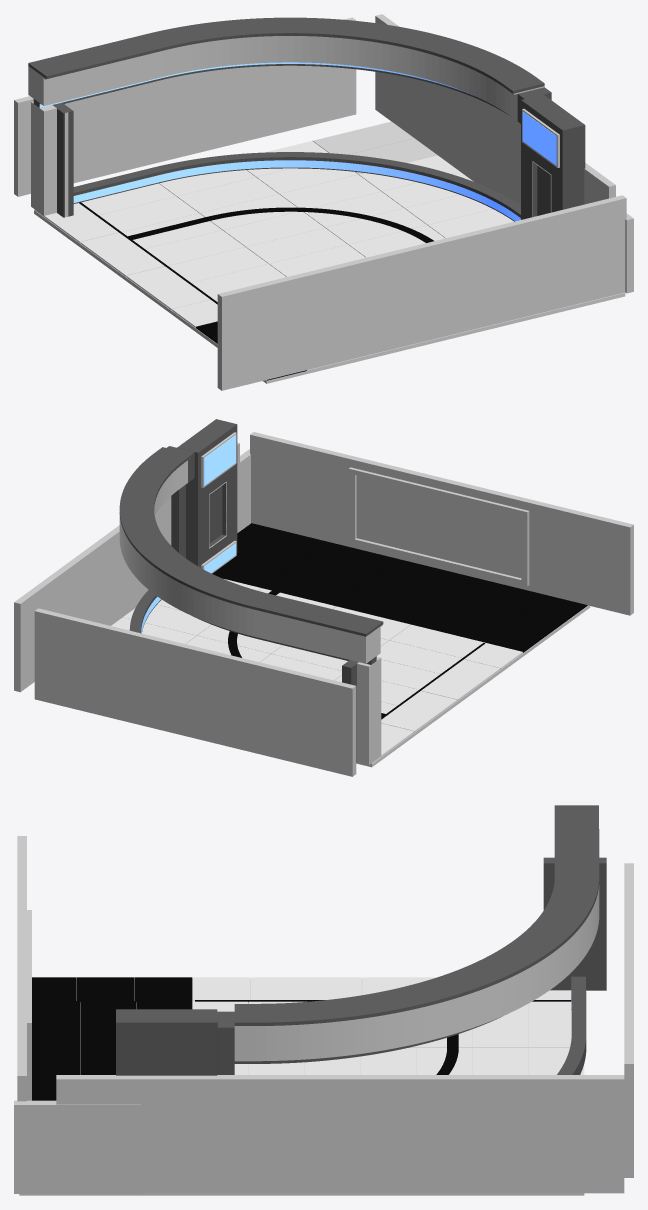
File: estructura_base.glb
The picture shows the model from 3 angles, top to bottom: view 1: azimuth 30°, elevation 25°; view 2: azimuth 150°, elevation 25°; view 3: azimuth 270°, elevation 25°; orthographic projection. The views are drawn at different scales.
Visible parts, largest first — view 1: Cube.030; view 2: Cube.030; view 3: Cube.030.
Boxes of the visible parts, x1,y1,x2,y2 form: Cube.030: [14, 14, 633, 390]; Cube.030: [14, 419, 633, 776]; Cube.030: [14, 805, 633, 1195].
Bounding box in the file's own units: 12.56 × 4.26 × 13.47.
Materials: 6 (2 with a texture image).
